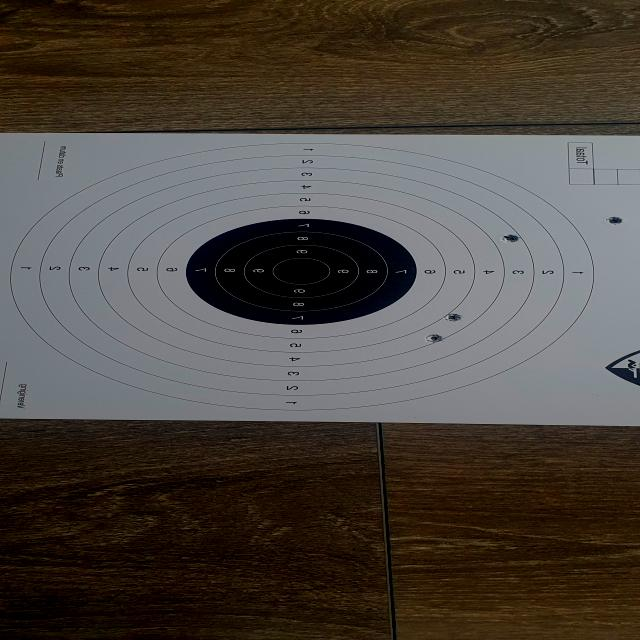0: (604, 216, 624, 225)
3: (500, 234, 521, 243)
4: (425, 334, 445, 344)
5: (441, 312, 462, 322)
Target: (10, 141, 596, 411)
black_contour: (185, 218, 419, 325)
